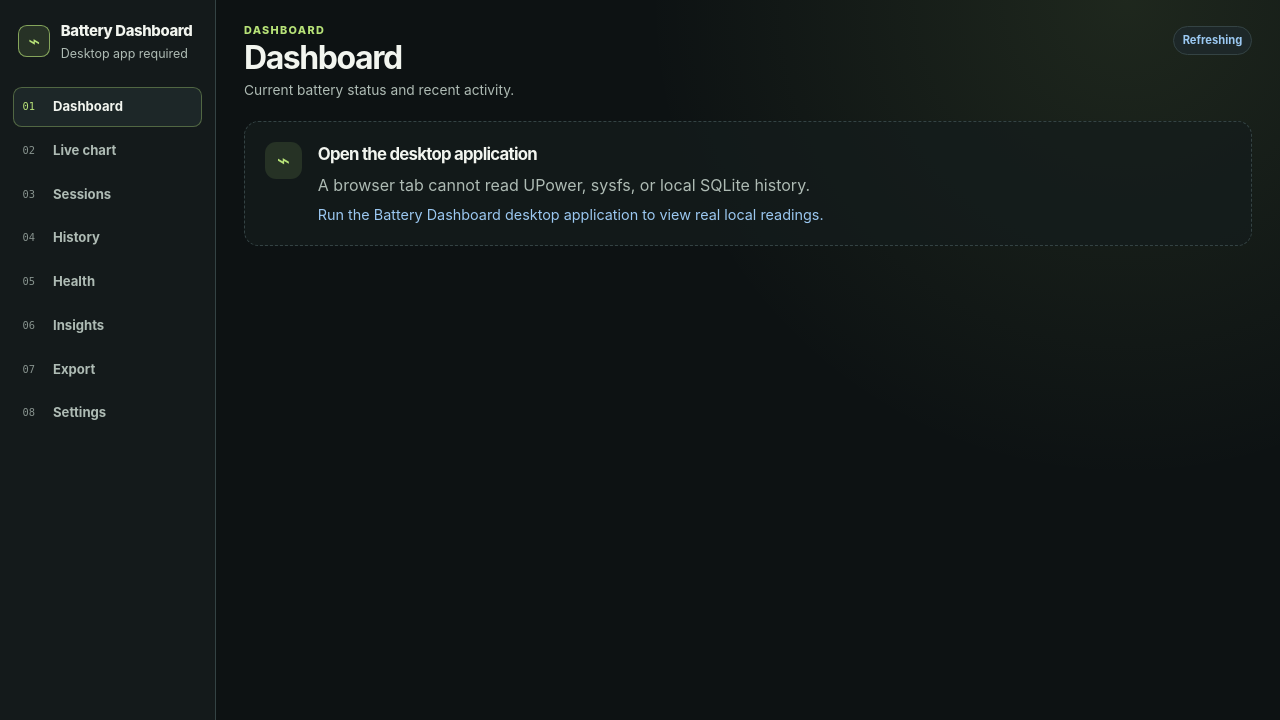
Test case: App › renders calendar history with an explicit empty recorded state
The width and height of the screenshot is (1280, 720).
Click the button with aria-label "History:" at (108, 238), box x1=13 y1=218 x2=202 y2=258
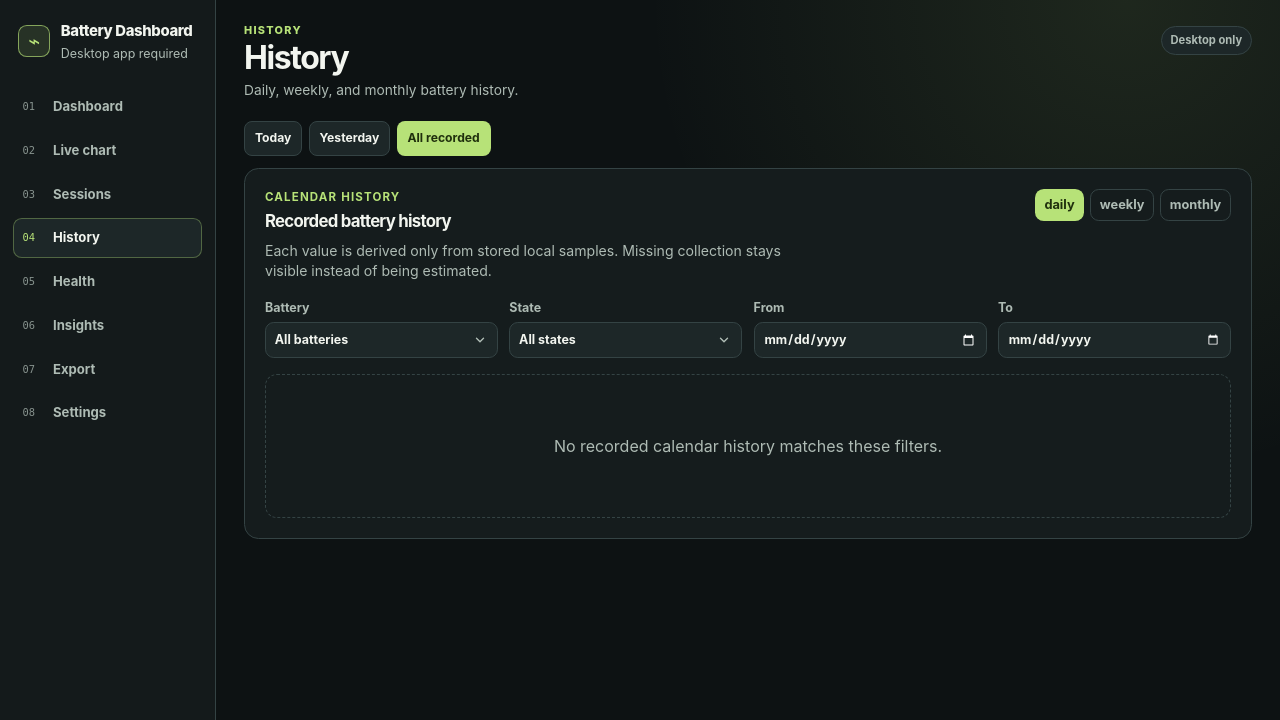
expect the heading "Recorded battery history" is shown: met, box x1=265 y1=211 x2=451 y2=231
expect the text "No recorded calendar history matches these filters." is shown: met, box x1=265 y1=374 x2=1231 y2=518
